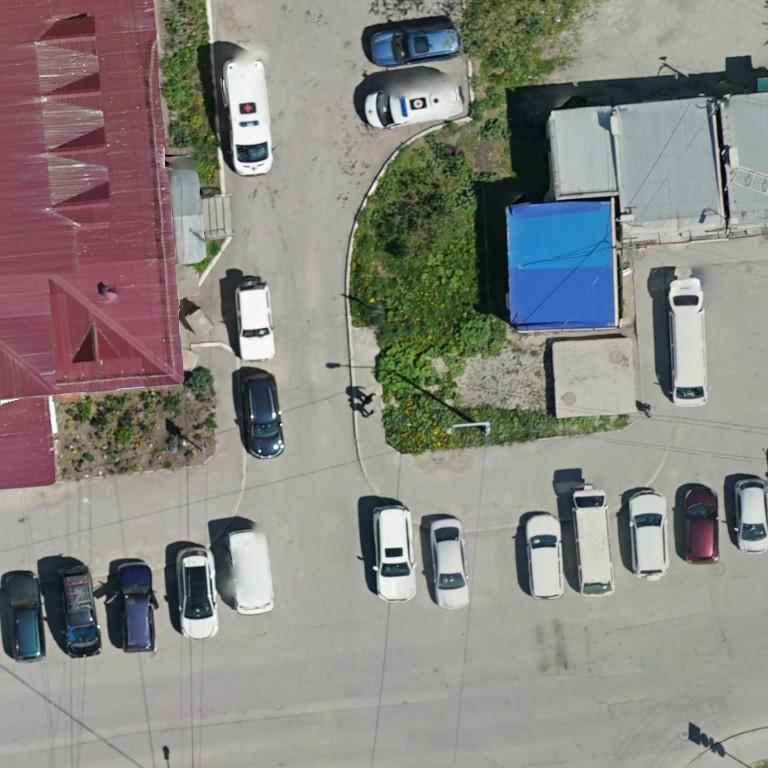hogweed: (376, 339, 458, 397), (458, 319, 504, 356)
